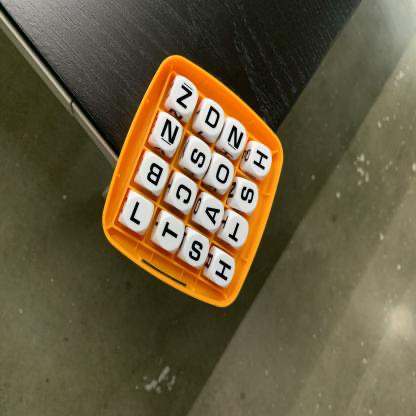a: (202, 197, 225, 230)
b: (140, 156, 169, 192)
c: (173, 178, 198, 211)
d: (200, 103, 225, 137)
h: (212, 255, 236, 287), (250, 146, 273, 177)
l: (125, 196, 154, 233)
n: (156, 115, 183, 151), (223, 122, 247, 155)
o: (211, 158, 234, 190)
s: (184, 234, 211, 268), (188, 141, 213, 175), (238, 181, 260, 213)
t: (159, 217, 184, 253), (226, 216, 250, 247)
z: (173, 78, 199, 115)
